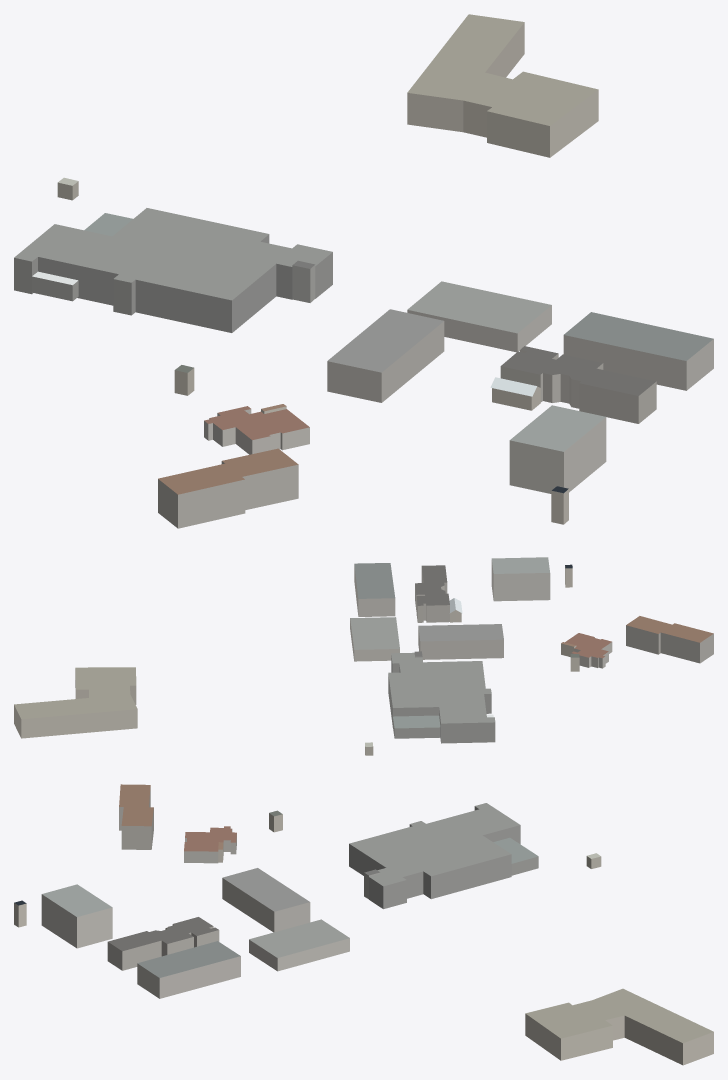
The picture shows the model from 3 angles, top to bottom: view 1: azimuth 30°, elevation 25°; view 2: azimuth 150°, elevation 25°; view 3: azimuth 270°, elevation 25°; orthographic projection. The views are drawn at different scales.
Visible parts, largest first — view 1: tuile; view 2: tuile; view 3: tuile.
Part boxes in pixels (x1,y1,x2,y2): tuile: (14, 14, 713, 528); tuile: (14, 557, 713, 755); tuile: (14, 784, 713, 1065).
Size of the model in its own units: 229 by 21.34 by 265.
